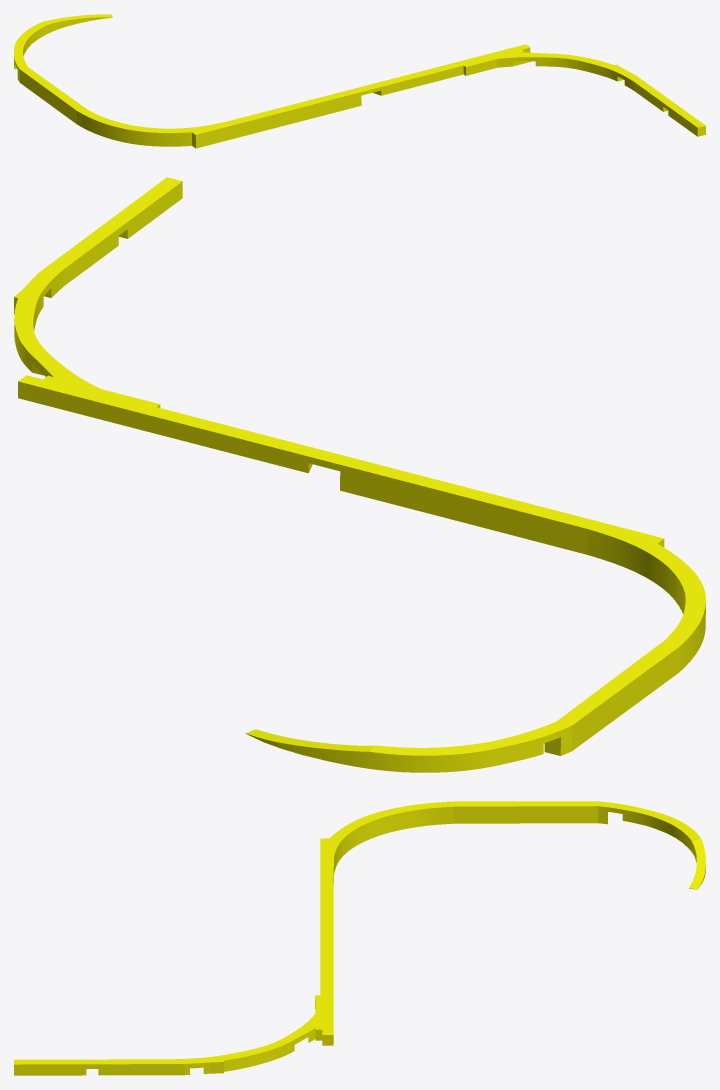
Rendered from 04_highline.glb.
The picture shows the model from 3 angles, top to bottom: view 1: azimuth 30°, elevation 25°; view 2: azimuth 150°, elevation 25°; view 3: azimuth 270°, elevation 25°; orthographic projection. The views are drawn at different scales.
Bounding box in the file's own units: 0.8062 × 0.0348 × 0.8686.
